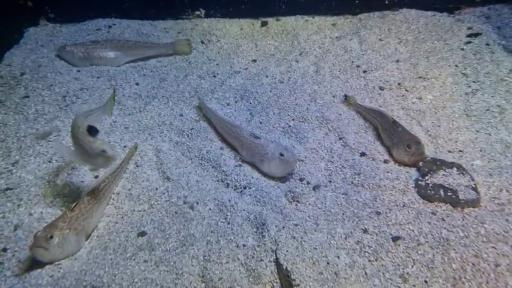Fish: (29, 143, 138, 263), (199, 98, 297, 178), (344, 95, 426, 166), (56, 89, 116, 171), (57, 39, 192, 67), (35, 127, 59, 140)
